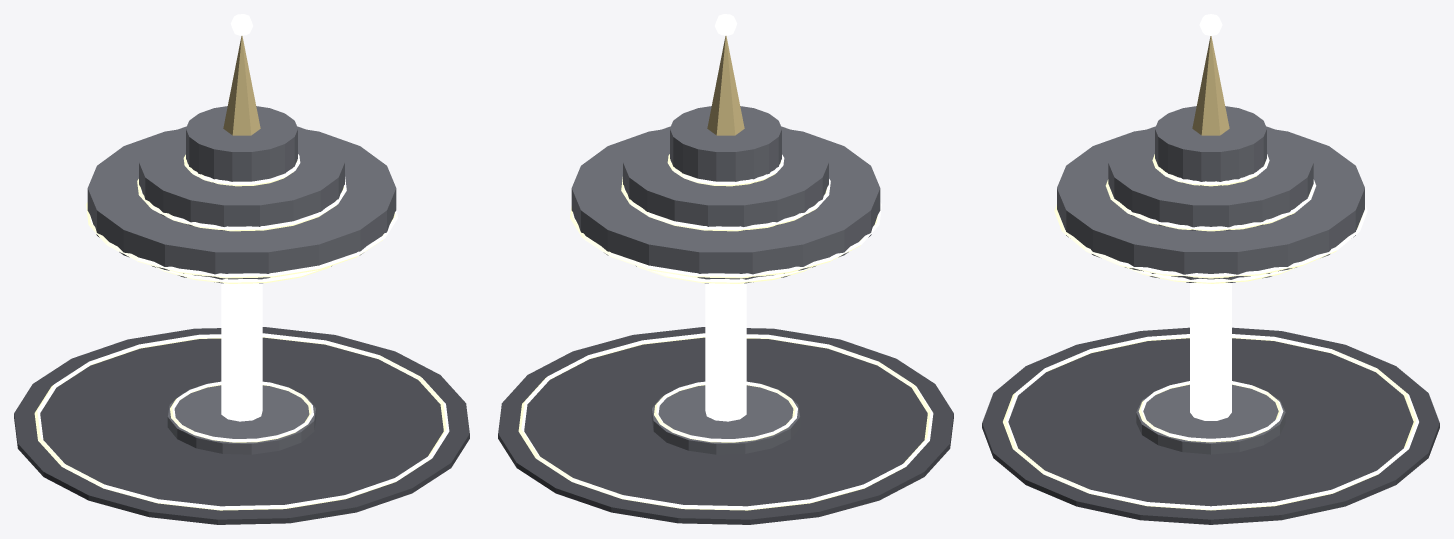
The model's file is zone_low_5.glb.
3 renders of one model, left to right at view 1: azimuth 30°, elevation 25°; view 2: azimuth 150°, elevation 25°; view 3: azimuth 270°, elevation 25°, orthographic.
Visible parts, largest first — view 1: zone_low_5, detail; view 2: zone_low_5, detail; view 3: zone_low_5, detail.
Boxes of the visible parts, x1,y1,x2,y2 form: zone_low_5: [14, 36, 469, 524]; detail: [34, 14, 449, 510]; zone_low_5: [498, 36, 953, 524]; detail: [518, 14, 933, 510]; zone_low_5: [982, 36, 1439, 524]; detail: [1003, 14, 1418, 510].
Bounding box in the file's own units: 19.6 × 19.56 × 19.6.
